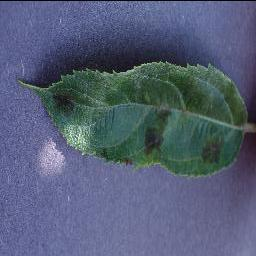apple healthy: (16, 59, 251, 178)
